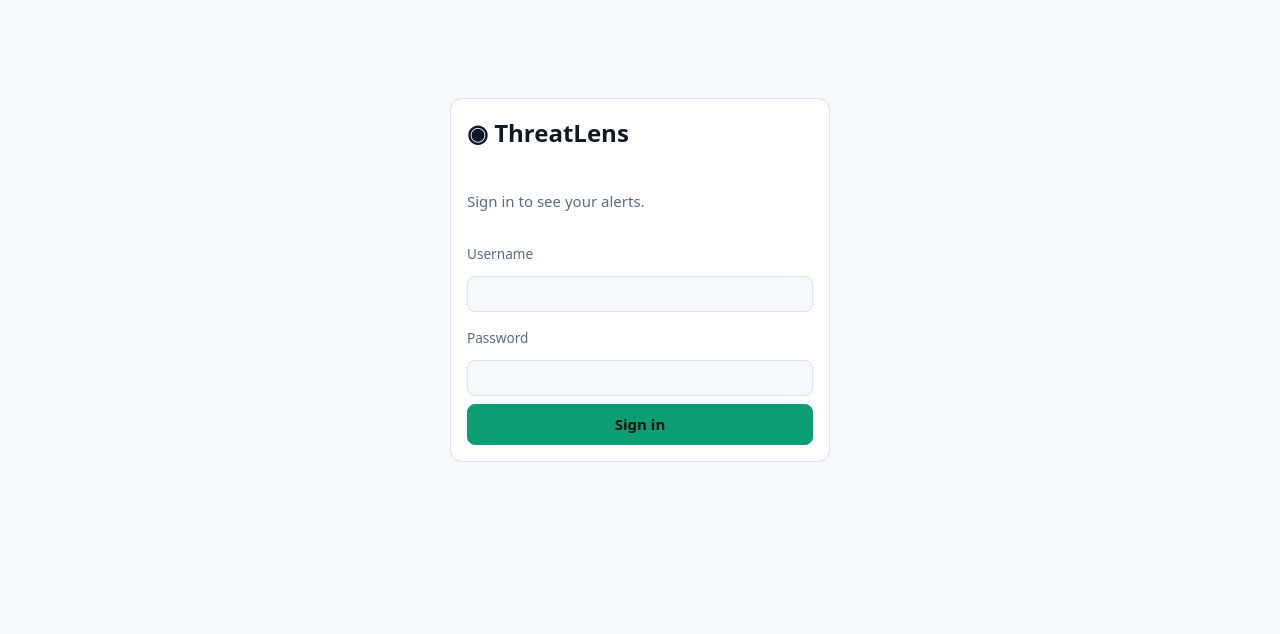
Scenario: sign in › signs in, stores the token for this tab and shows the overview
The width and height of the screenshot is (1280, 634).
Type "ana" into the field labelled "Username" at (640, 294), box top-left (467, 276), bottom-right (813, 312)
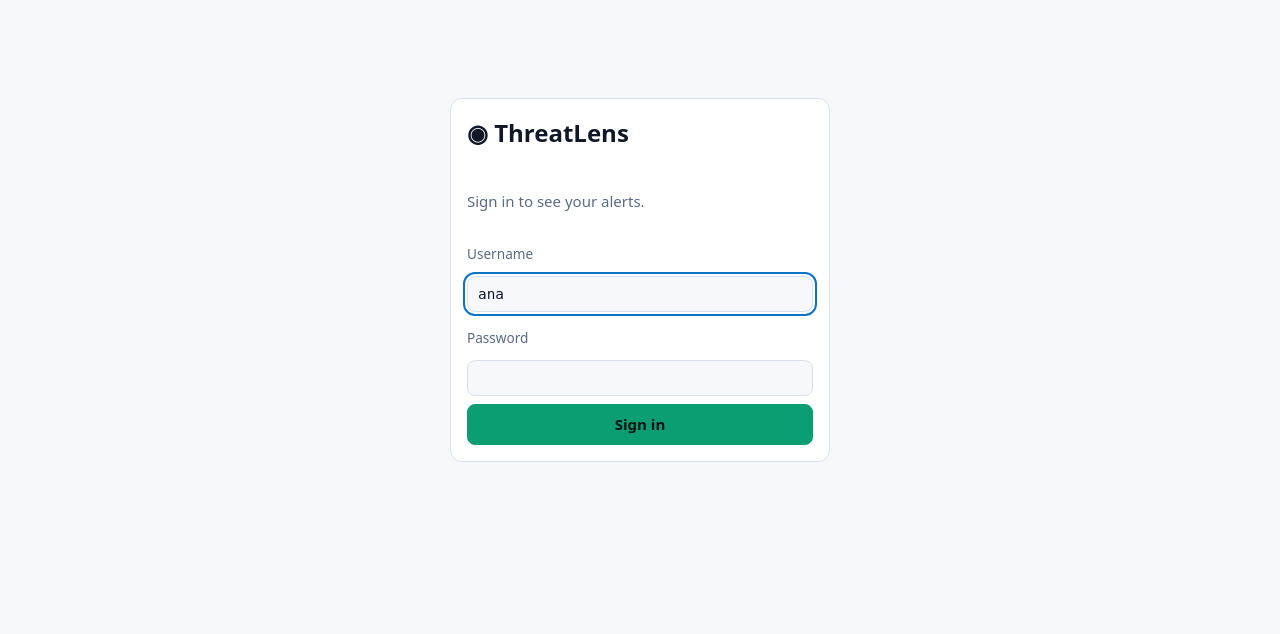
Type "correct-horse-battery-1" into the password field labelled "Password" at (640, 378), box top-left (467, 360), bottom-right (813, 396)
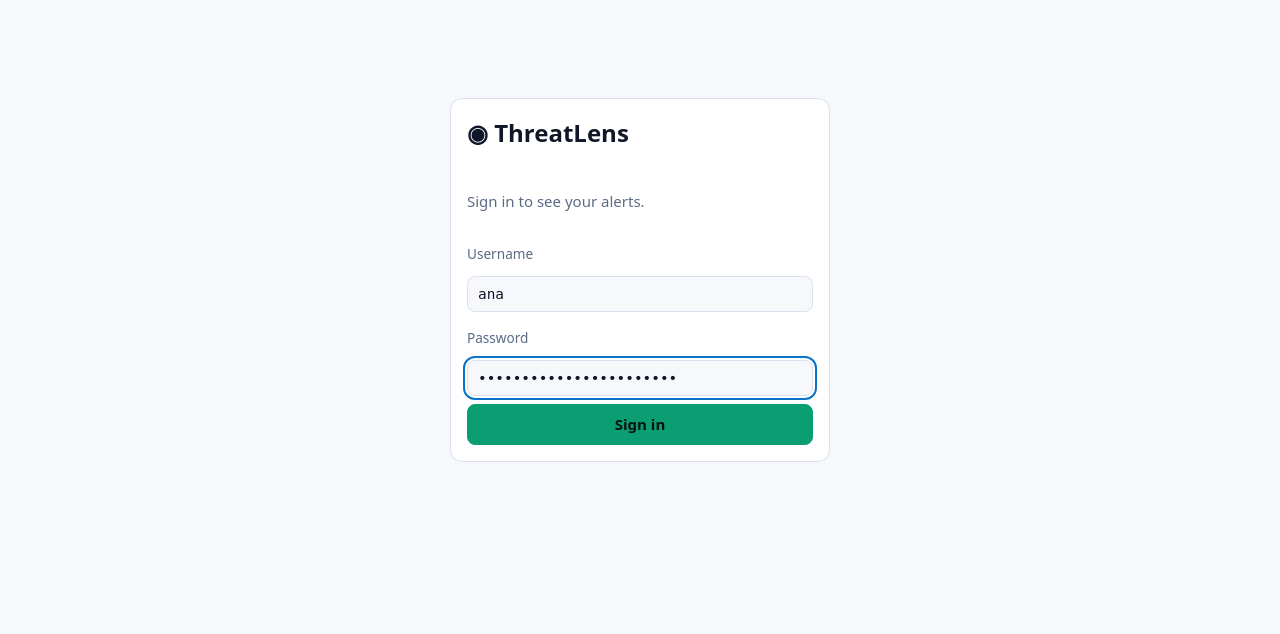
Click the button "Sign in" at (640, 425), box top-left (467, 404), bottom-right (813, 445)
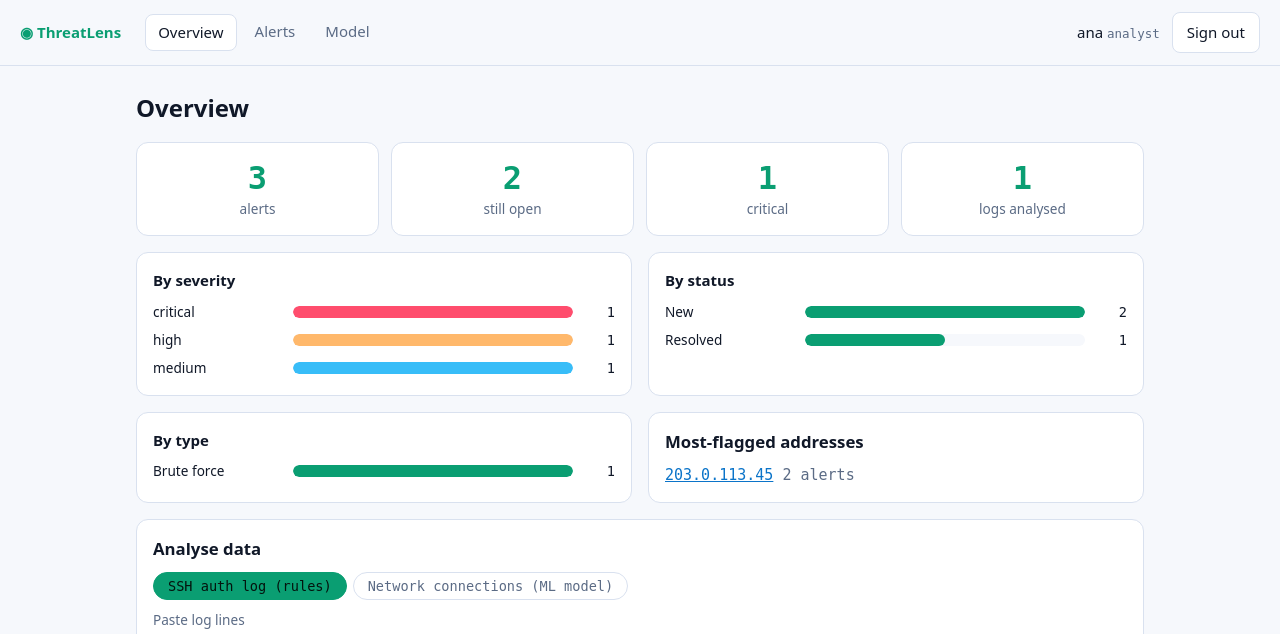
Check: the heading "Overview" is shown, box top-left (136, 90), bottom-right (249, 124)
Check: the text "analyst" is shown, box top-left (1107, 26), bottom-right (1160, 41)
